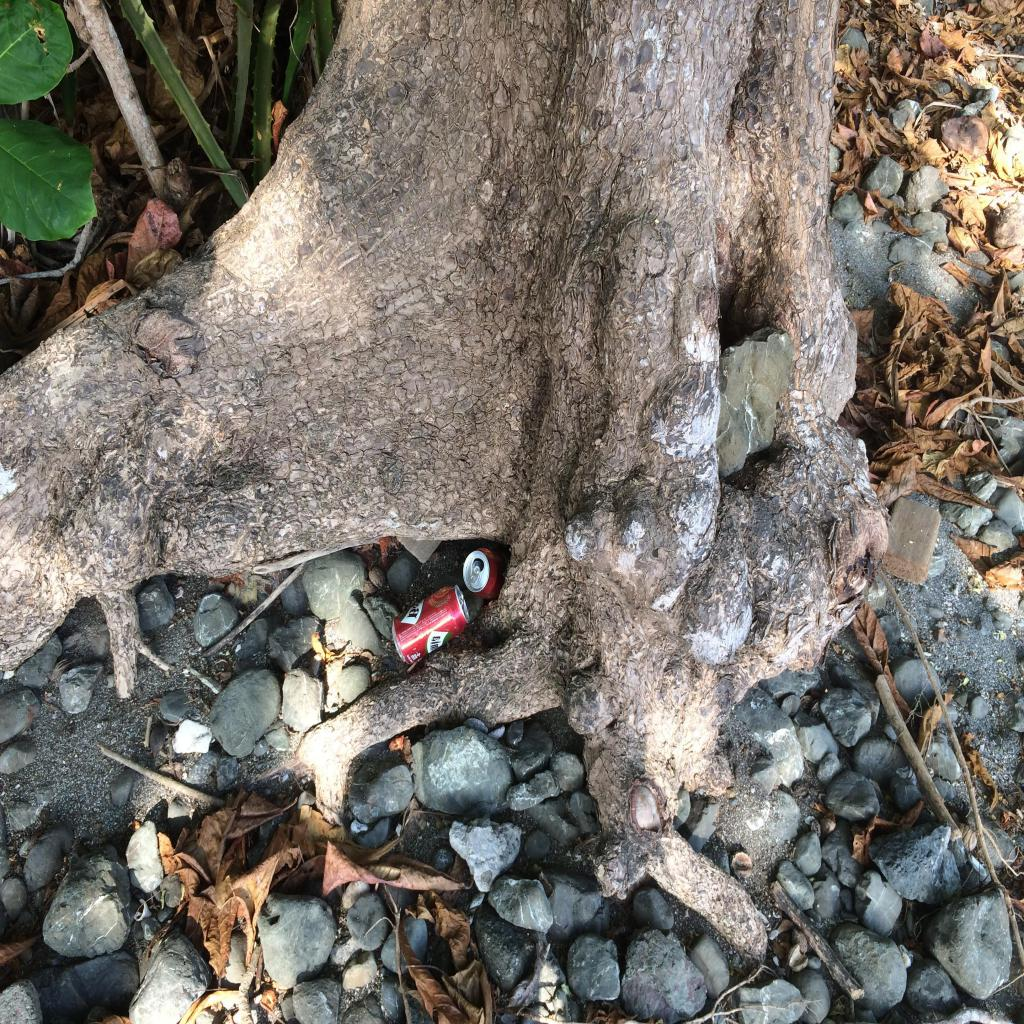Drink can: (392, 584, 470, 664), (464, 548, 510, 600)
Pop tab: (470, 566, 480, 584), (460, 592, 464, 610)
